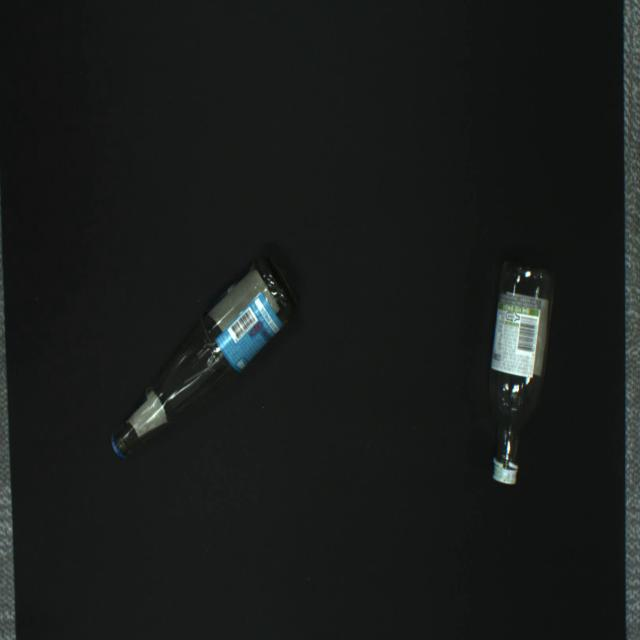beer-bottle: (112, 254, 296, 457)
soju-bottle: (489, 262, 553, 484)
